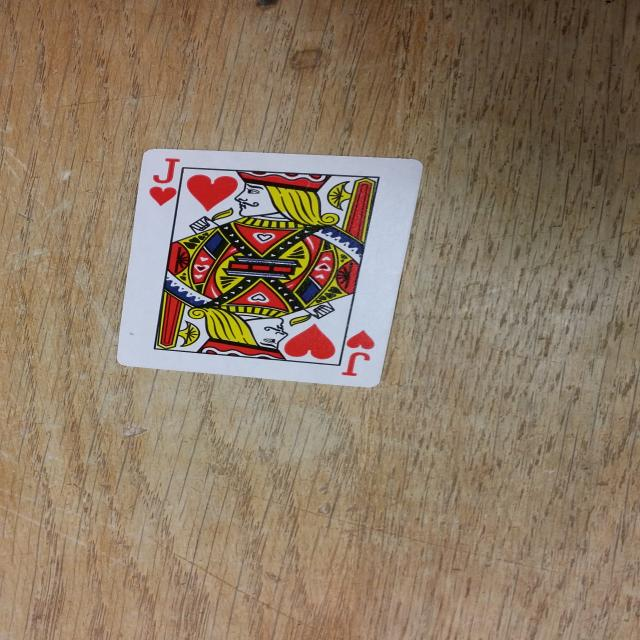Jh: (328, 326, 381, 383), (145, 154, 192, 212)
